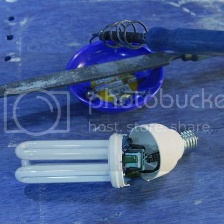light_bulb: (10, 114, 200, 200)
